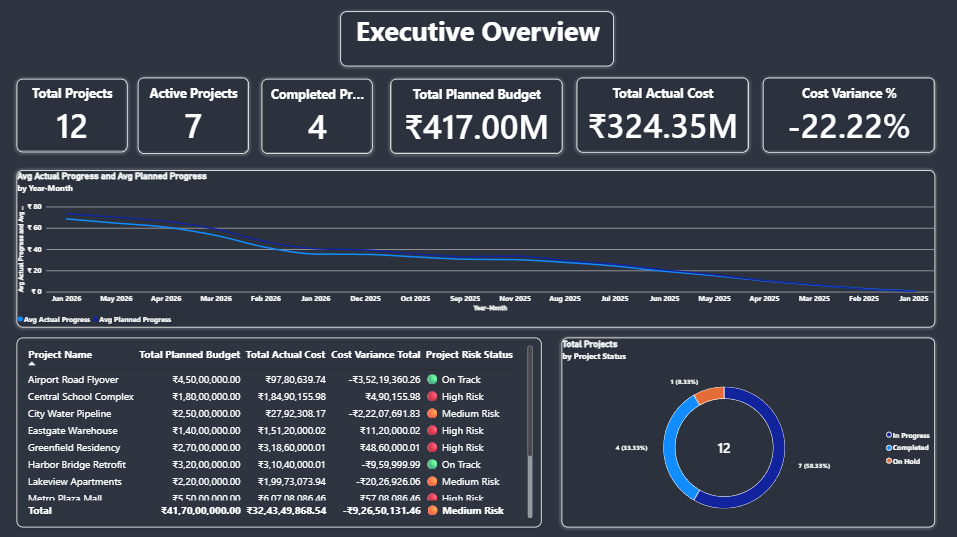

The page's visual inventory and layout, read from the dashboard file:
{"tool":"powerbi","page":{"name":"Executive Overview","canvas":[1920,1080],"ordinal":0},"visuals":[{"type":"tableEx","fields":{"Values":["Projects.Project Name","_Measures.Total Planned Budget","_Measures.Total Actual Cost","_Measures.Cost Variance Total","_Measures.Project Risk Status"]},"box":[35,675,1050,380],"z":0},{"type":"cardVisual","fields":{"Data":["_Measures.Total Projects"]},"box":[35,157.5,222.5,147.5],"z":1000},{"type":"cardVisual","fields":{"Data":["_Measures.Active Projects"]},"box":[277.5,155,222.5,152.5],"z":2000},{"type":"cardVisual","fields":{"Data":["_Measures.Completed Projects"]},"box":[525,157.5,222.5,150],"z":3000},{"type":"cardVisual","fields":{"Data":["_Measures.Total Planned Budget"]},"box":[782.5,157.5,345,150],"z":4000},{"type":"cardVisual","fields":{"Data":["_Measures.Total Actual Cost"]},"box":[1155,155,345,150],"z":5000},{"type":"cardVisual","fields":{"Data":["_Measures.Cost Variance %"]},"box":[1527.5,155,345,150],"z":6000},{"type":"donutChart","fields":{"Category":["Projects.Project Status"],"Y":["_Measures.Total Projects"]},"box":[1125,675,747.5,380],"z":7000},{"type":"lineChart","fields":{"Category":["Calendar.Year-Month"],"Y":["_Measures.Avg Actual Progress","_Measures.Avg Planned Progress"]},"box":[35,340,1837.5,315],"z":8000},{"type":"textbox","box":[682.5,22.5,547.5,110],"z":8001}]}

Visuals, with their boxes in screenshot pixels (x1, y1, x2, y2), scaled from the page's 1920x1080 canvas onto the 957x537 screenshot:
tableEx - Projects.Project Name x _Measures.Total Planned Budget: (left=17, top=336, right=541, bottom=525)
cardVisual - _Measures.Total Projects: (left=17, top=78, right=128, bottom=152)
cardVisual - _Measures.Active Projects: (left=138, top=77, right=249, bottom=153)
cardVisual - _Measures.Completed Projects: (left=262, top=78, right=373, bottom=153)
cardVisual - _Measures.Total Planned Budget: (left=390, top=78, right=562, bottom=153)
cardVisual - _Measures.Total Actual Cost: (left=576, top=77, right=748, bottom=152)
cardVisual - _Measures.Cost Variance %: (left=761, top=77, right=933, bottom=152)
donutChart - Projects.Project Status x _Measures.Total Projects: (left=561, top=336, right=933, bottom=525)
lineChart - Calendar.Year-Month x _Measures.Avg Actual Progress: (left=17, top=169, right=933, bottom=326)
textbox: (left=340, top=11, right=613, bottom=66)
